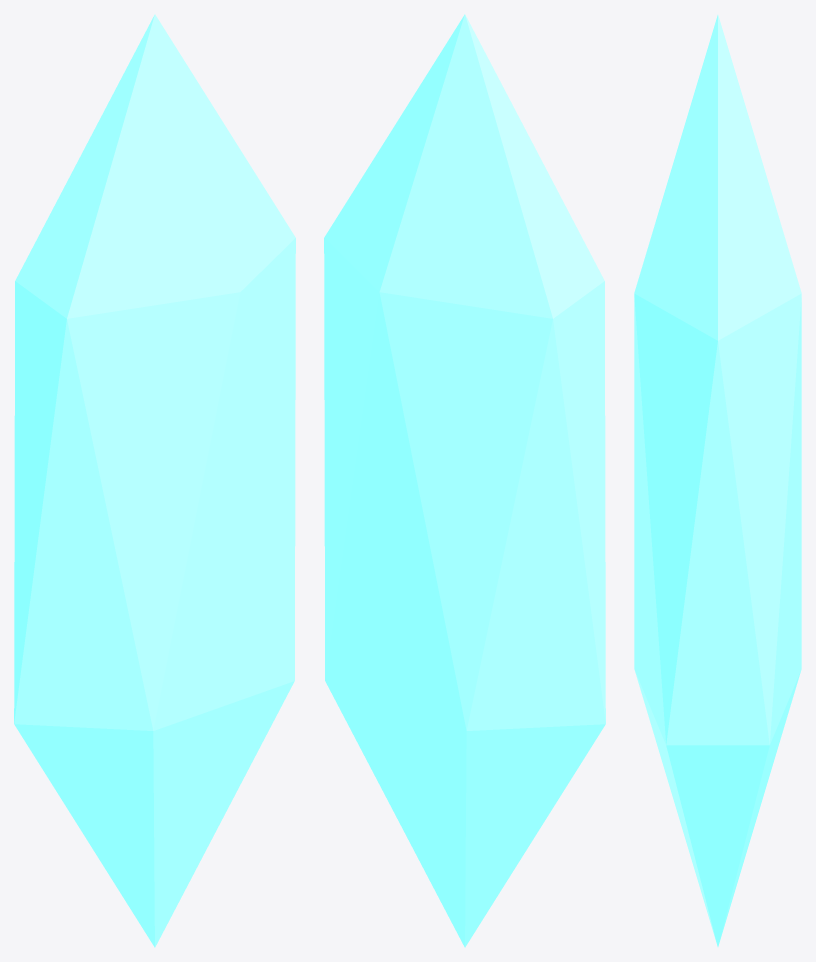
The model's file is frost_shard_a.glb.
The picture shows the model from 3 angles, left to right: view 1: azimuth 30°, elevation 25°; view 2: azimuth 150°, elevation 25°; view 3: azimuth 270°, elevation 25°; orthographic projection.
Visible parts, largest first — view 1: frost_shard_a; view 2: frost_shard_a; view 3: frost_shard_a.
Part boxes in pixels (x1,y1,x2,y2): frost_shard_a: [14, 14, 295, 947]; frost_shard_a: [324, 14, 605, 947]; frost_shard_a: [634, 15, 801, 946].
Size of the model in its own units: 0.2147 by 0.68 by 0.1106.
